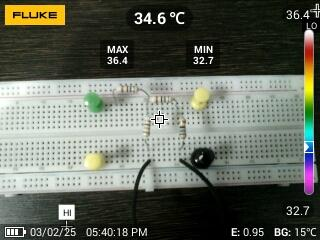resistor: (173, 113, 188, 144), (139, 114, 155, 141), (114, 83, 141, 96), (146, 95, 178, 105)
